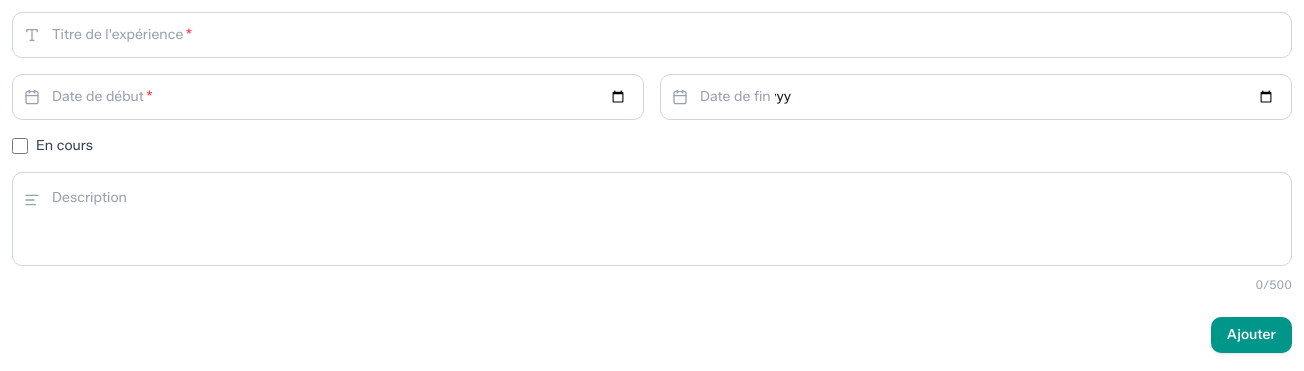
Test case: ExperienceForm › watch behavior › clears date_fin when is_ongoing is checked
The image size is (1304, 371).
Type "2024-06-30" into the date field with test id "date_fin-input" at (976, 97), box [660, 74, 1292, 120]
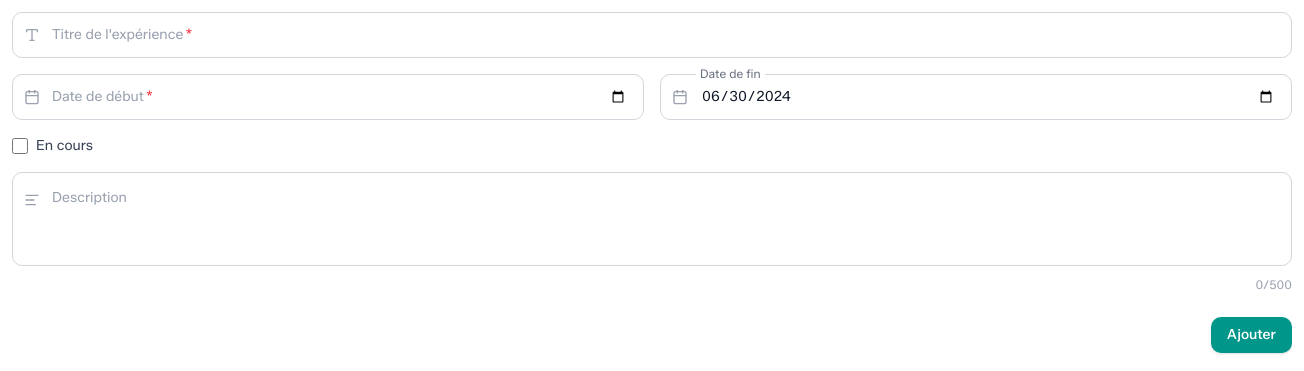
Click the checkbox with test id "is_ongoing-checkbox" at (20, 146), box [12, 138, 28, 154]
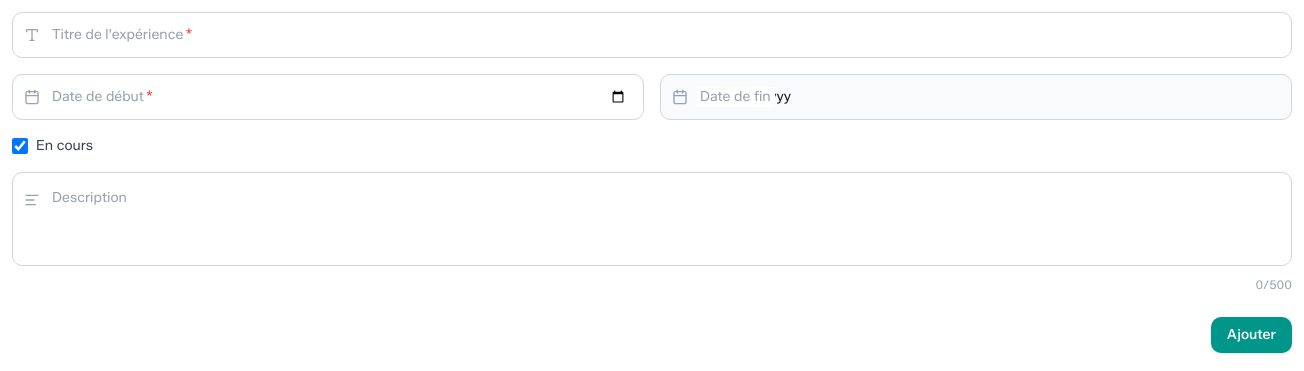
Result: the date field with test id "date_fin-input" is disabled at [660, 74, 1292, 120]
